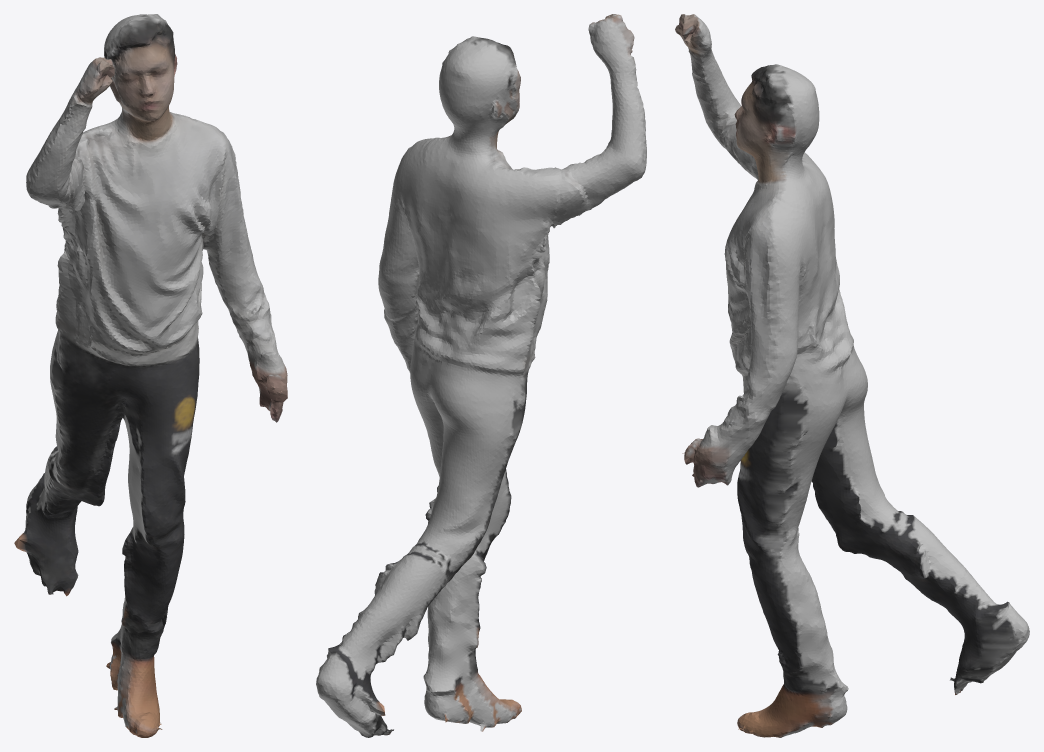
The model's file is 0005_view_elev+00_19_textured.glb.
The picture shows the model from 3 angles, left to right: view 1: azimuth 30°, elevation 25°; view 2: azimuth 150°, elevation 25°; view 3: azimuth 270°, elevation 25°; orthographic projection. The views are drawn at different scales.
Visible parts, largest first — view 1: 0005_view_elev+00_19_merged.obj; view 2: 0005_view_elev+00_19_merged.obj; view 3: 0005_view_elev+00_19_merged.obj.
Boxes of the visible parts, x1,y1,x2,y2 form: 0005_view_elev+00_19_merged.obj: (14, 14, 287, 737); 0005_view_elev+00_19_merged.obj: (316, 14, 646, 737); 0005_view_elev+00_19_merged.obj: (675, 14, 1029, 737).
Size of the model in its own units: 0.6689 by 1.8 by 0.8513.
